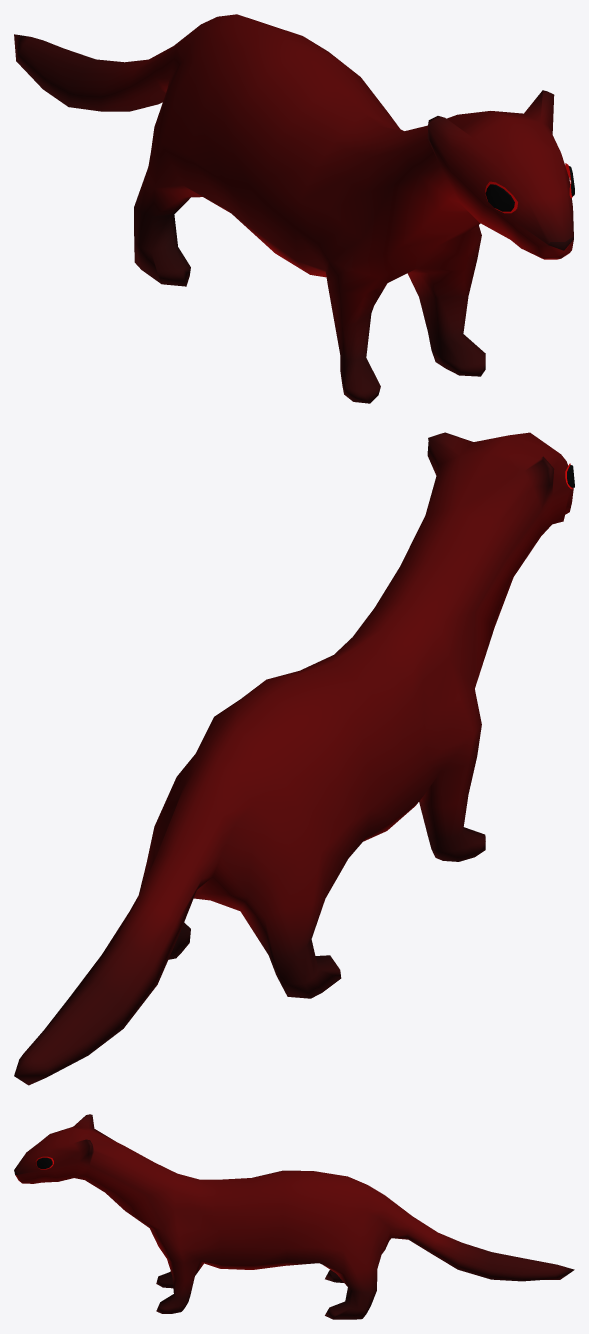
Rendered from Animals_Otter.fbx.
3 views of the same model, one above another, from view 1: azimuth 30°, elevation 25°; view 2: azimuth 150°, elevation 25°; view 3: azimuth 270°, elevation 25° (orthographic). The views are drawn at different scales.
Parts seen in each view (by area): view 1: base; view 2: base; view 3: base.
Part boxes in pixels (bbox=[...]): base: bbox=[14, 14, 574, 403]; base: bbox=[14, 432, 574, 1085]; base: bbox=[14, 1114, 574, 1319].
Size of the model in its own units: 18.1 by 31.6 by 94.3.
